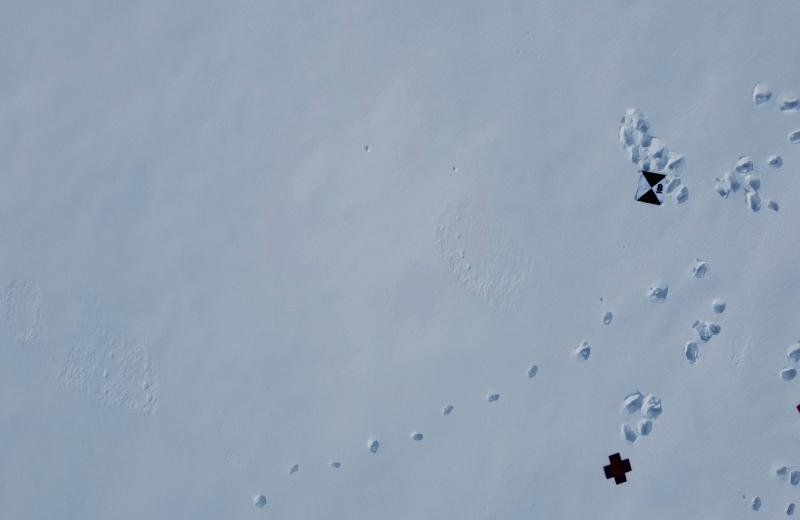Cross: (598, 449, 634, 487)
